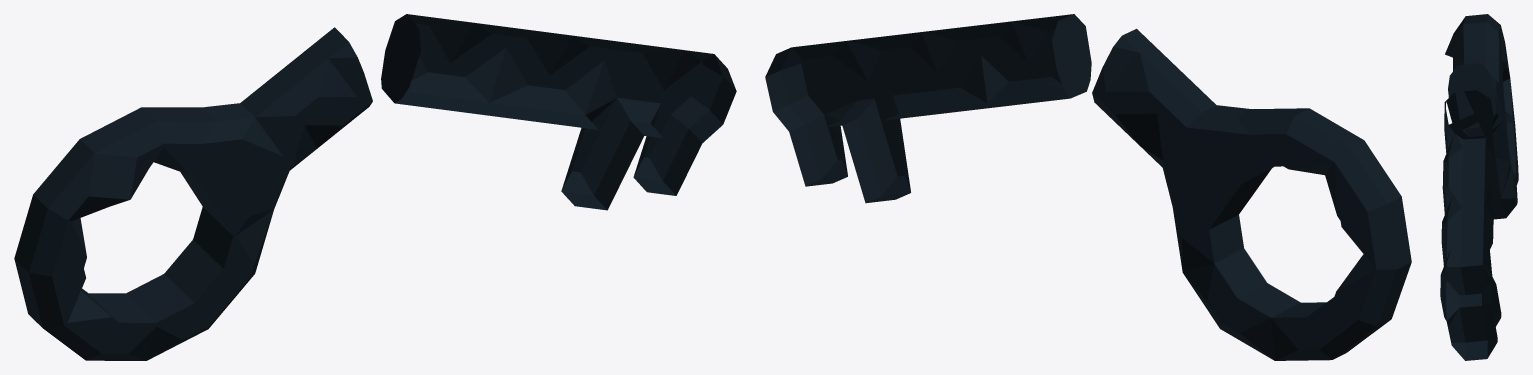
Rendered from broken_key.glb.
The picture shows the model from 3 angles, left to right: view 1: azimuth 30°, elevation 25°; view 2: azimuth 150°, elevation 25°; view 3: azimuth 270°, elevation 25°; orthographic projection. The views are drawn at different scales.
Parts seen in each view (by area): view 1: Circle.024; view 2: Circle.024; view 3: Circle.024.
Part boxes in pixels (x1=…): Circle.024: x1=14, y1=14, x2=736, y2=360; Circle.024: x1=765, y1=14, x2=1411, y2=360; Circle.024: x1=1440, y1=14, x2=1518, y2=360.
Bounding box in the file's own units: 1.84 × 0.7421 × 0.2448.
2 materials, 2 textured.
